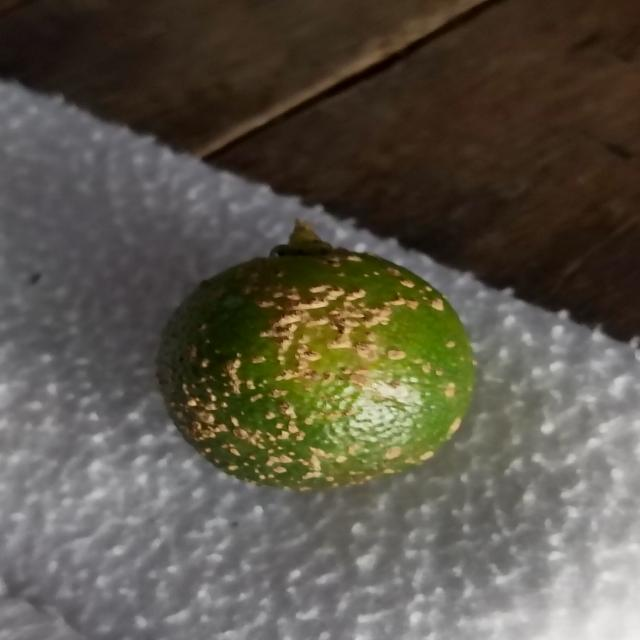scab: (155, 248, 483, 491)
